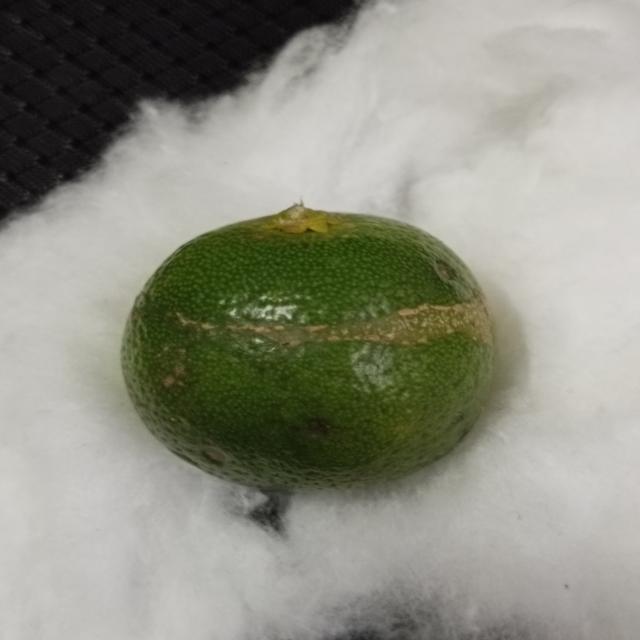thrips: (122, 201, 510, 494)
